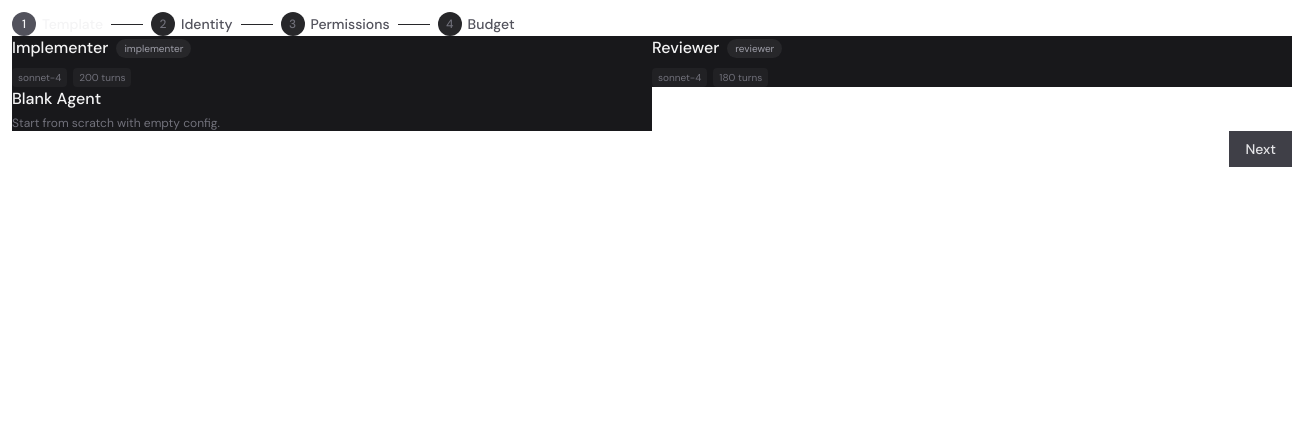
Test case: AgentWizard › advances to Identity step after selecting template
Click the text "Implementer" at coordinates (60, 48), box x1=12 y1=36 x2=108 y2=60
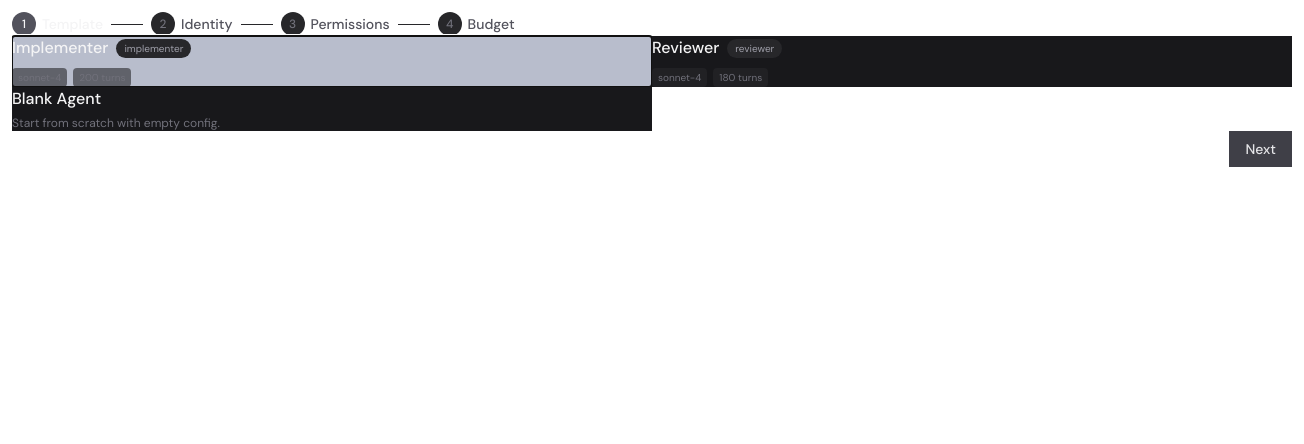
Click the button "Next" at coordinates (1261, 149), box x1=1230 y1=131 x2=1292 y2=167
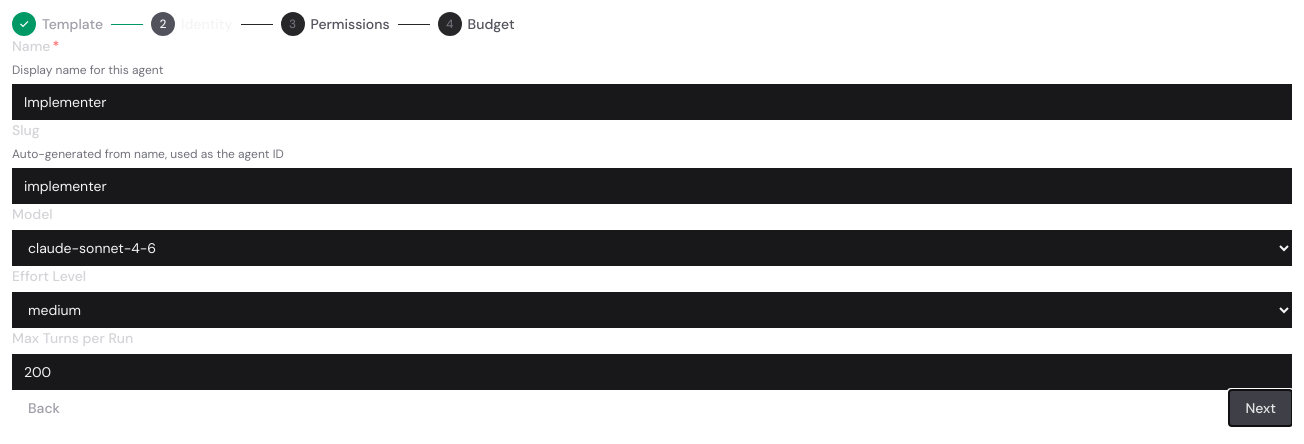
Result: the text "Name" is shown at x1=12 y1=37 x2=50 y2=55
Result: the text "Model" is shown at x1=12 y1=205 x2=53 y2=223
